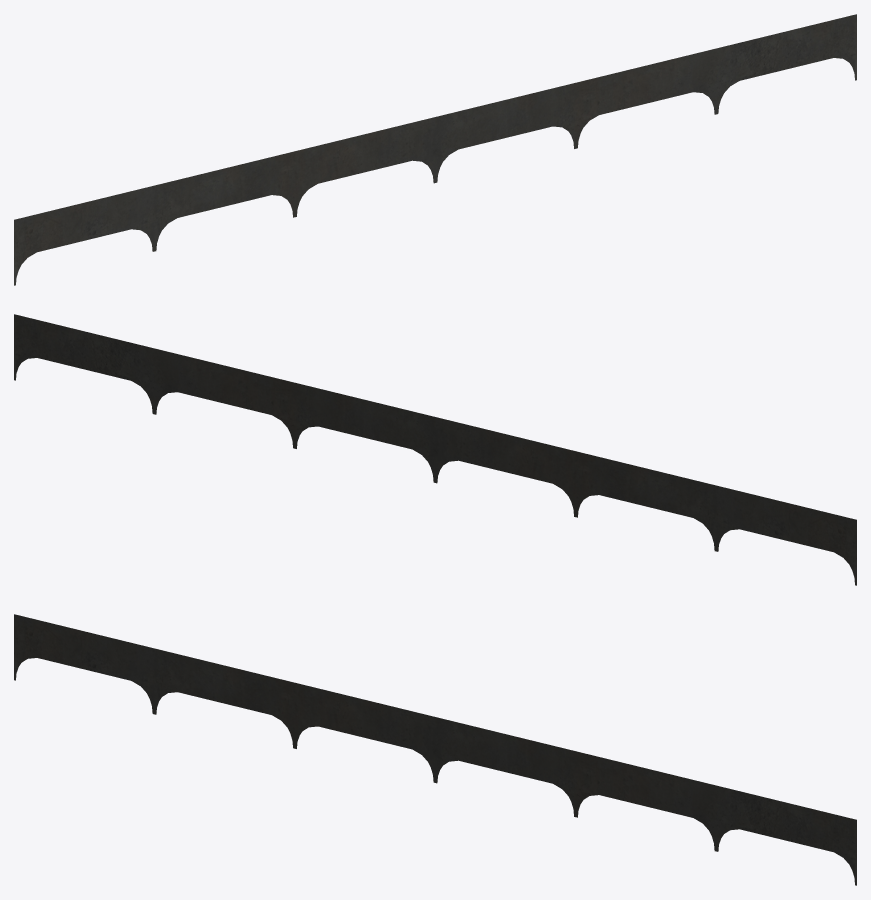
The model's file is city_upperFacia5.fbx.
The picture shows the model from 3 angles, top to bottom: view 1: azimuth 30°, elevation 25°; view 2: azimuth 150°, elevation 25°; view 3: azimuth 330°, elevation 25°; orthographic projection.
Visible parts, largest first — view 1: city_upperFacia5; view 2: city_upperFacia5; view 3: city_upperFacia5.
Part boxes in pixels (x1,y1,x2,y2): city_upperFacia5: (14, 14, 856, 285); city_upperFacia5: (14, 314, 856, 585); city_upperFacia5: (14, 614, 856, 885).
Bounding box in the file's own units: 914 × 0.000122 × 68.43.
Materials: 1 (1 with a texture image).
